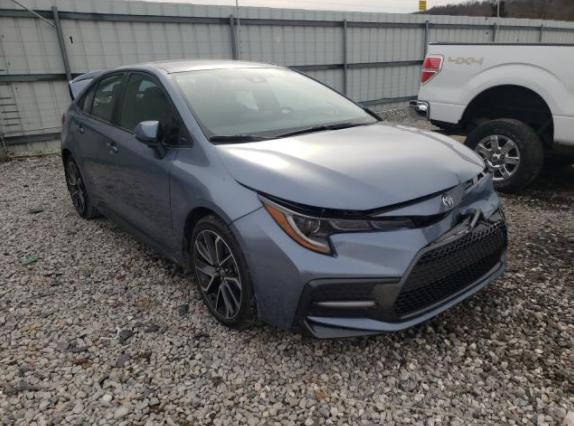Back-door: (71, 72, 127, 208)
Back-wheel: (65, 158, 100, 219)
Back-window: (92, 75, 123, 122), (83, 90, 93, 112)
Fender: (170, 126, 262, 258)
Front-bumper: (229, 175, 508, 337)
Front-door: (103, 71, 182, 254)
Front-wheel: (191, 215, 264, 328)
Front-window: (115, 75, 172, 139)
Grille: (392, 220, 509, 314)
Headlight: (258, 195, 415, 258)
Hood: (217, 123, 486, 211)
Mirror: (135, 121, 166, 159)
Quarter-panel: (61, 102, 92, 202)
Rocker-panel: (94, 202, 186, 268)
Roof: (124, 60, 290, 76)
Trunk: (69, 70, 106, 99)
Windshield: (171, 68, 380, 145)
